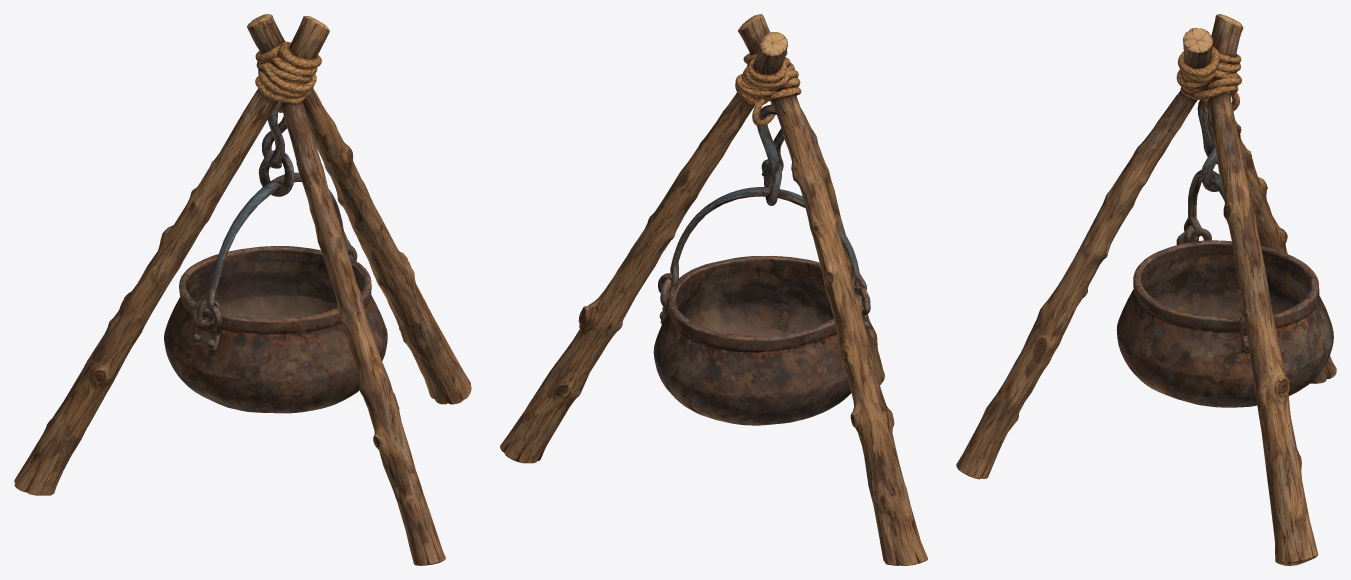
The model's file is cauldron.glb.
3 views of the same model, side by side, from view 1: azimuth 30°, elevation 25°; view 2: azimuth 150°, elevation 25°; view 3: azimuth 270°, elevation 25° (orthographic). The views are drawn at different scales.
Bounding box in the file's own units: 1.9 × 1.9 × 1.47.
Materials: 1 (1 with a texture image).
